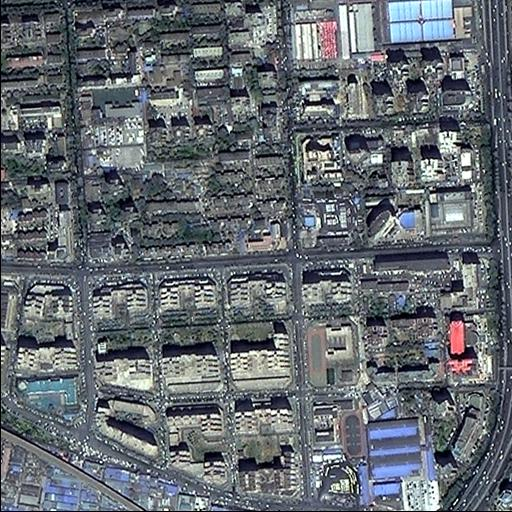school: (300, 317, 362, 391), (298, 395, 366, 460), (76, 81, 144, 120)
